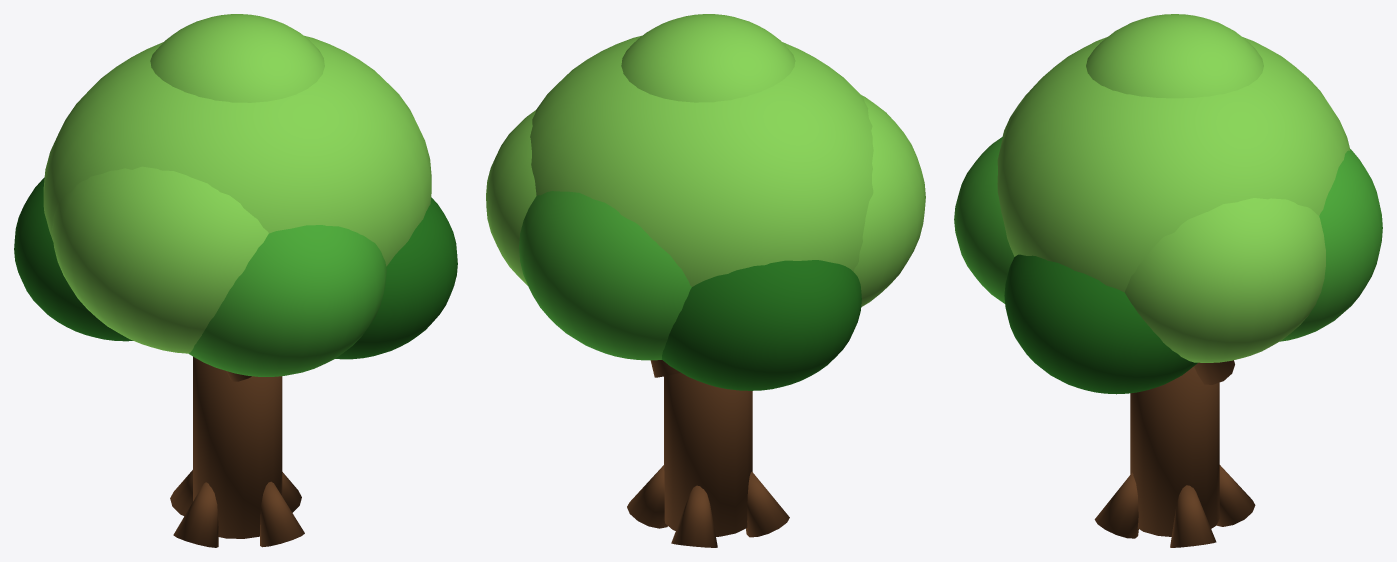
The model's file is tree_oak.glb.
The picture shows the model from 3 angles, left to right: view 1: azimuth 30°, elevation 25°; view 2: azimuth 150°, elevation 25°; view 3: azimuth 270°, elevation 25°; orthographic projection.
Visible parts, largest first — view 1: FoliagePuff_0, FoliagePuff_2, FoliagePuff_4, TrunkBase, FoliagePuff_7, FoliagePuff_5, FoliagePuff_6, Root_2, Root_3, Root_1; view 2: FoliagePuff_0, FoliagePuff_3, FoliagePuff_6, TrunkBase, FoliagePuff_7, FoliagePuff_2, FoliagePuff_1, Root_1, Root_2, Root_0; view 3: FoliagePuff_0, FoliagePuff_1, FoliagePuff_5, TrunkBase, FoliagePuff_7, FoliagePuff_3, FoliagePuff_4, Root_0, Root_3, Root_1, Branch1.
Part boxes in pixels (bbox=[...]): FoliagePuff_0: bbox=[43, 35, 431, 266]; FoliagePuff_2: bbox=[52, 166, 268, 353]; FoliagePuff_4: bbox=[189, 225, 386, 376]; TrunkBase: bbox=[193, 356, 282, 538]; FoliagePuff_7: bbox=[150, 14, 324, 102]; FoliagePuff_5: bbox=[335, 197, 457, 359]; FoliagePuff_6: bbox=[14, 177, 133, 341]; Root_2: bbox=[173, 482, 218, 547]; Root_3: bbox=[260, 481, 304, 547]; Root_1: bbox=[170, 470, 192, 516]; FoliagePuff_0: bbox=[530, 35, 873, 286]; FoliagePuff_3: bbox=[519, 191, 691, 360]; FoliagePuff_6: bbox=[661, 260, 861, 390]; TrunkBase: bbox=[664, 372, 752, 536]; FoliagePuff_7: bbox=[621, 14, 795, 102]; FoliagePuff_2: bbox=[853, 95, 925, 306]; FoliagePuff_1: bbox=[486, 110, 536, 285]; Root_1: bbox=[671, 485, 717, 547]; Root_2: bbox=[746, 472, 789, 537]; Root_0: bbox=[627, 465, 667, 528]; FoliagePuff_0: bbox=[997, 37, 1349, 292]; FoliagePuff_1: bbox=[1124, 198, 1325, 362]; FoliagePuff_5: bbox=[1004, 254, 1197, 394]; TrunkBase: bbox=[1130, 366, 1219, 536]; FoliagePuff_7: bbox=[1086, 14, 1263, 98]; FoliagePuff_3: bbox=[1280, 148, 1382, 341]; FoliagePuff_4: bbox=[954, 136, 1014, 303]; Root_0: bbox=[1170, 485, 1216, 547]; Root_3: bbox=[1094, 472, 1138, 538]; Root_1: bbox=[1216, 465, 1255, 526]; Branch1: bbox=[1194, 360, 1234, 384].
Bounding box in the file's own units: 4.03 × 5.21 × 4.02.
